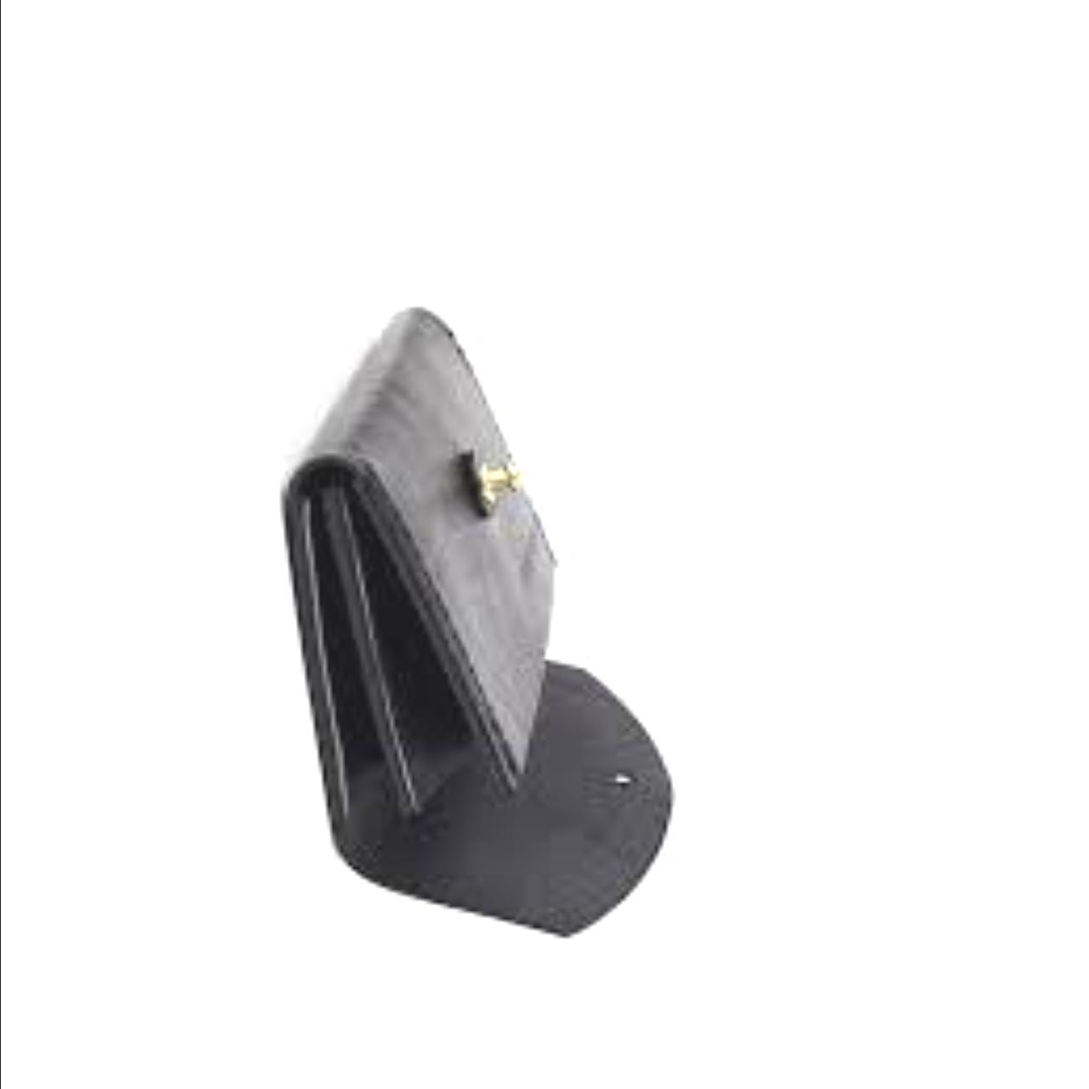wallet: (248, 311, 718, 958)
